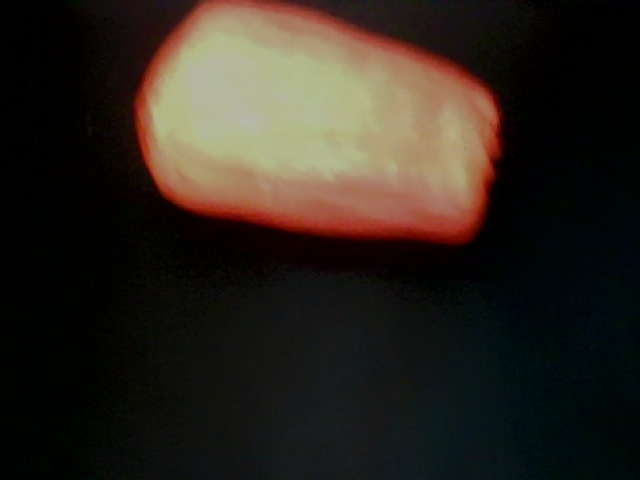QTLJ: (12, 150, 194, 351)
